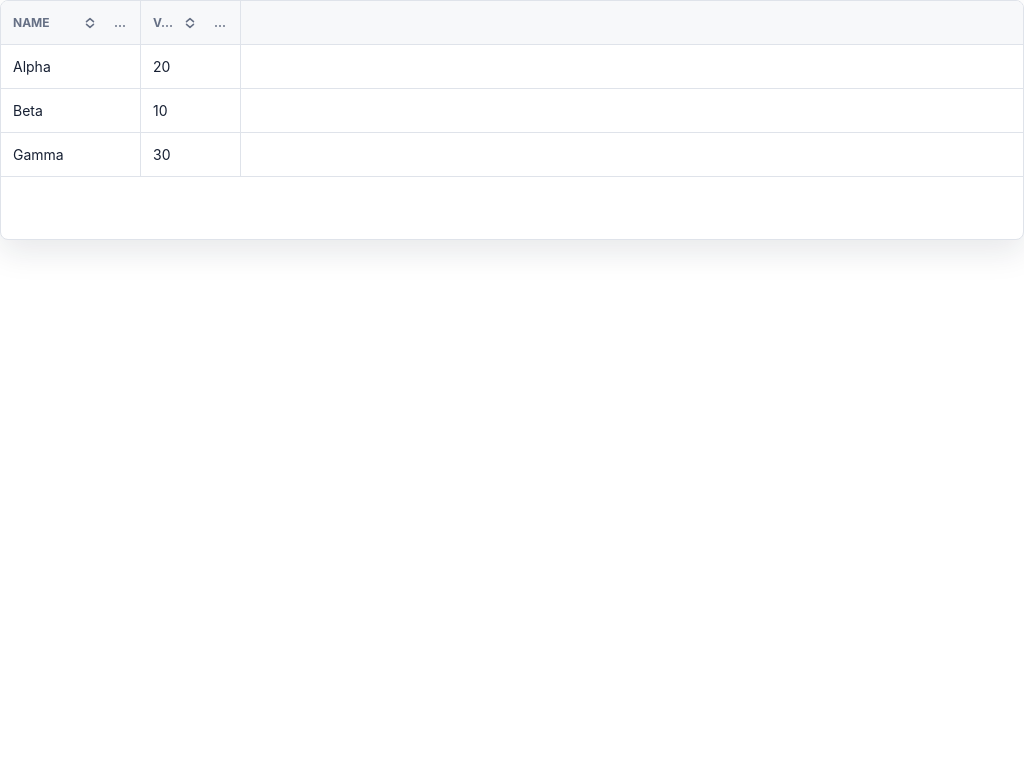
Test: VirtualTable › opens the column menu from a visible header button
The image size is (1024, 768).
Click the button named "open column actions for value" at {"x": 220, "y": 22}, box [208,10,232,34]
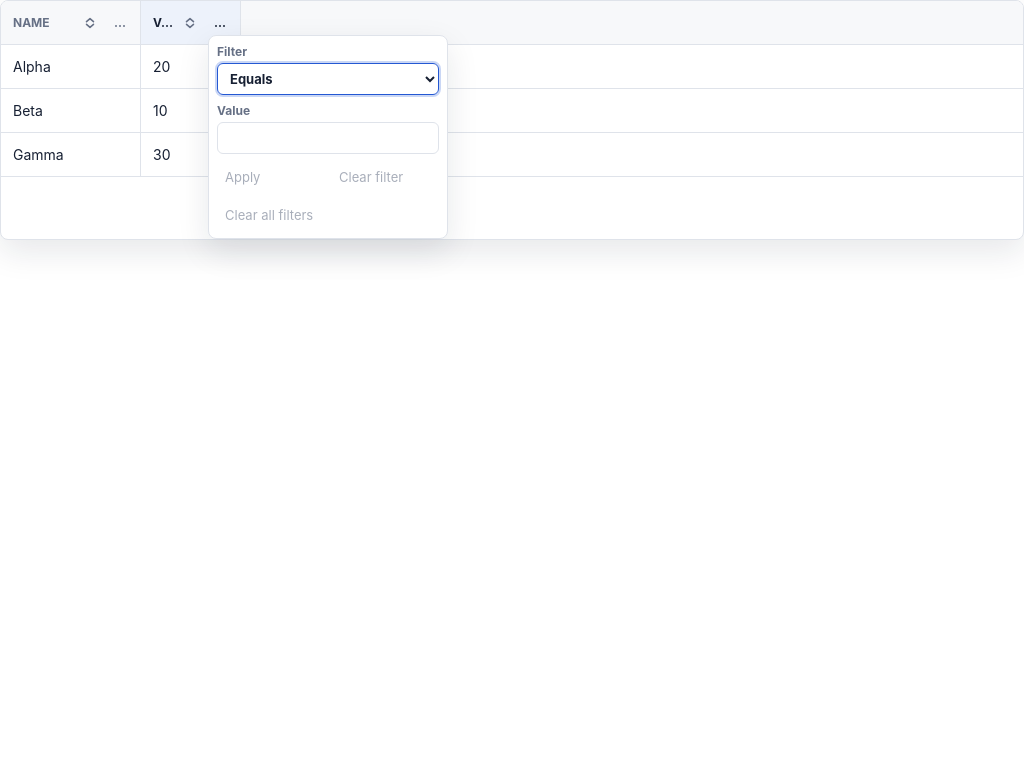
Check: the dialog named "column actions for value" is shown, box [208,34,448,238]
